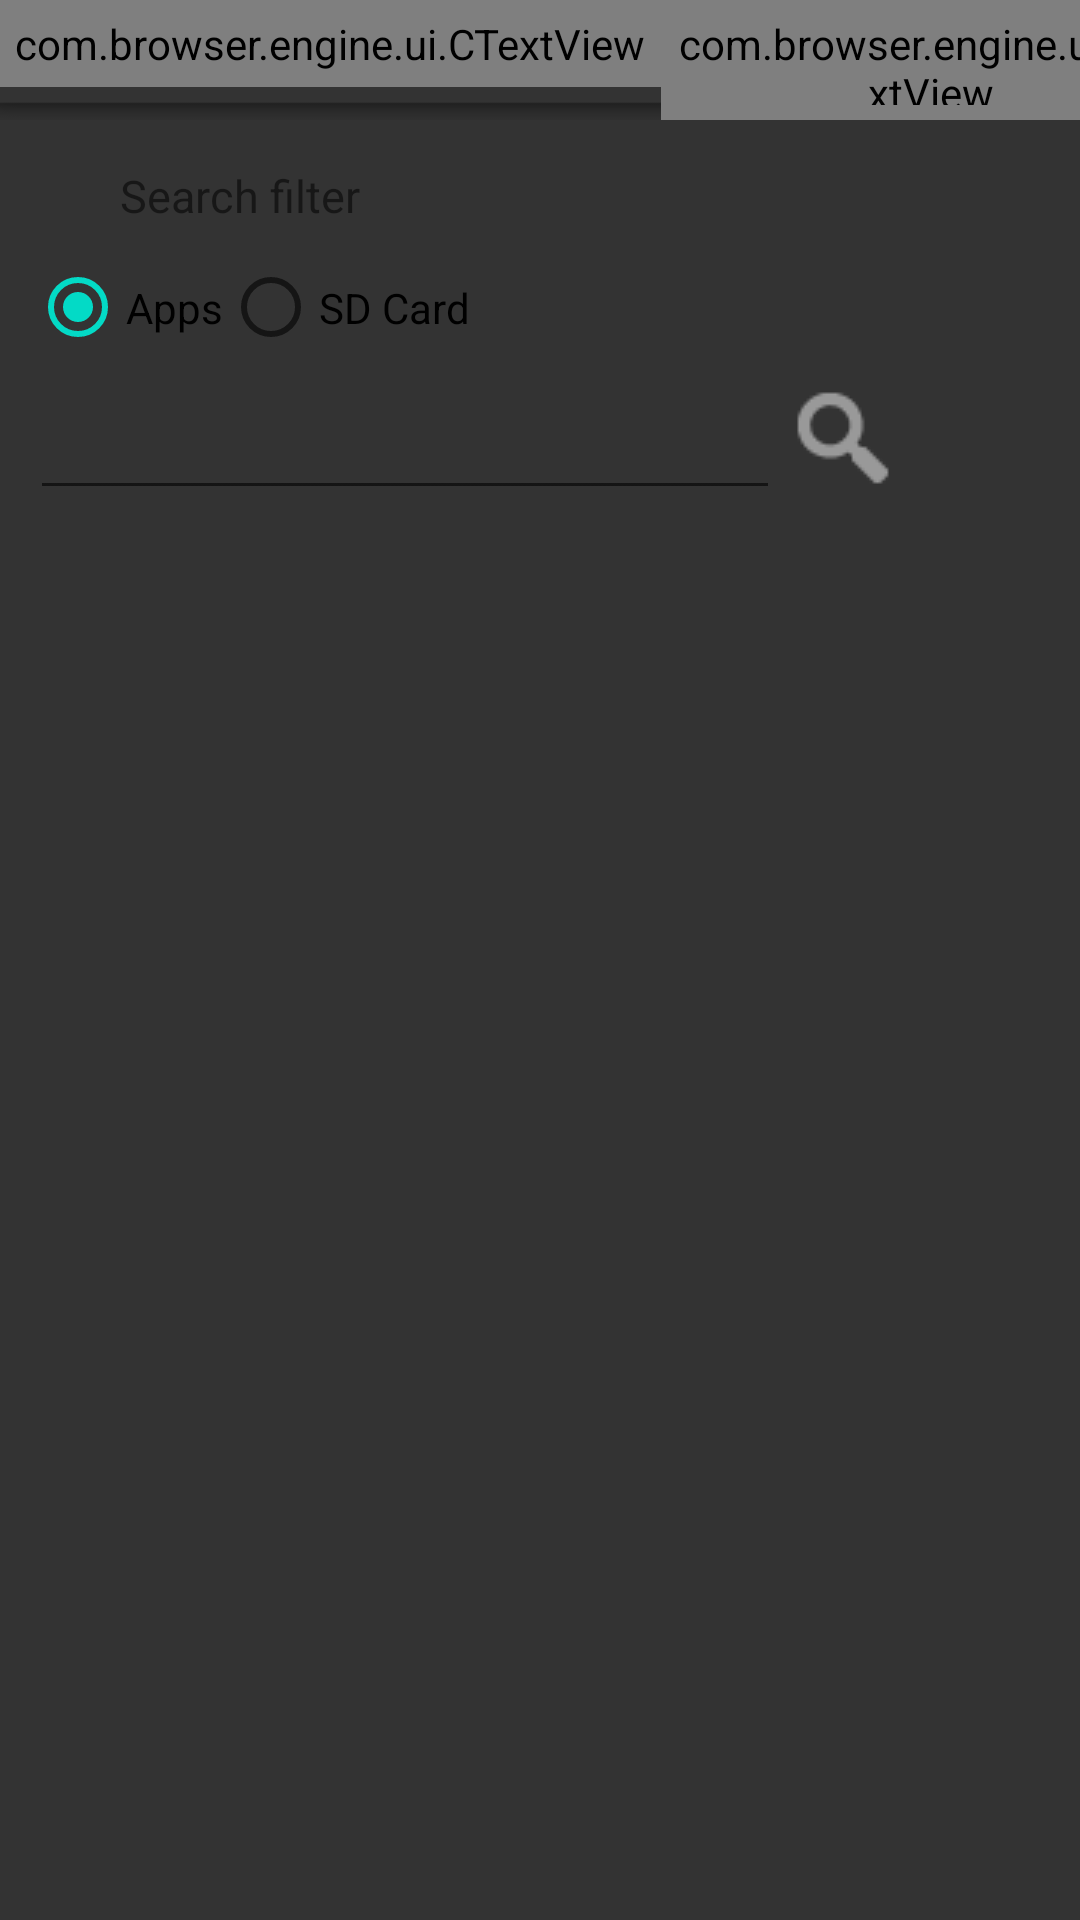

Screen size 1080 x 1920. Icon name, then its box in pixels as (x1, y1, x2, y2):
find: (797, 392, 889, 484)
